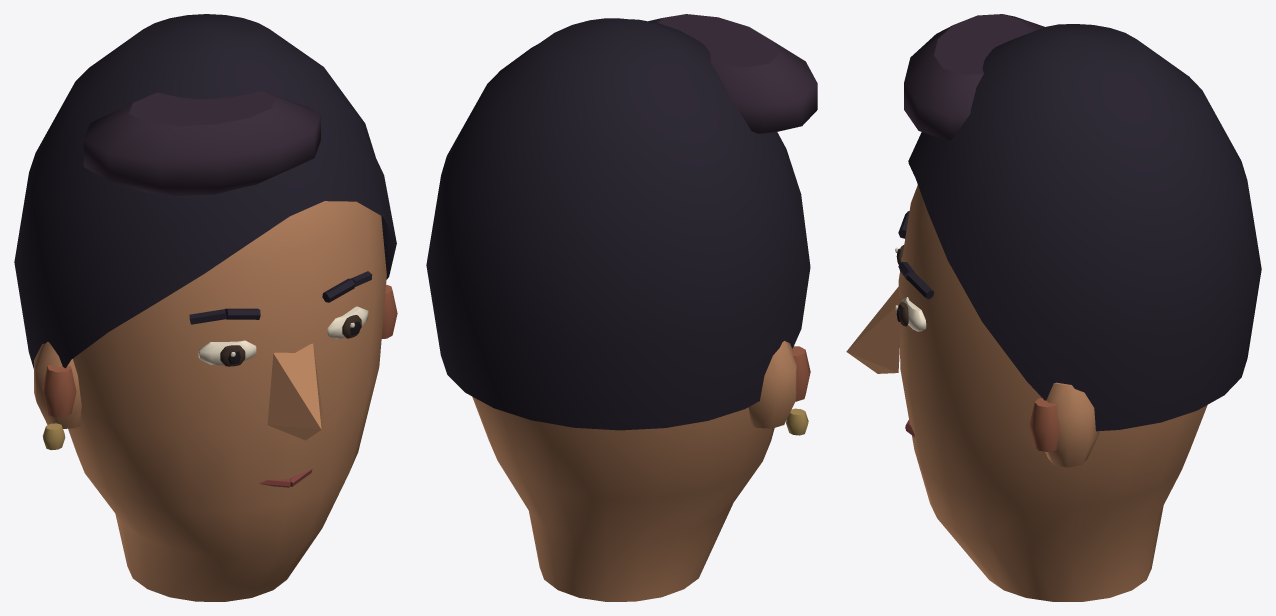
File: cabeza.obj
3 renders of one model, left to right at view 1: azimuth 30°, elevation 25°; view 2: azimuth 150°, elevation 25°; view 3: azimuth 270°, elevation 25°, orthographic.
Parts seen in each view (by area): view 1: cabeza; view 2: cabeza; view 3: cabeza.
Boxes of the visible parts, bbox=[...] form: cabeza: bbox=[14, 14, 397, 601]; cabeza: bbox=[426, 14, 817, 601]; cabeza: bbox=[846, 14, 1261, 601].
Bounding box in the file's own units: 0.23 × 0.336 × 0.238.
